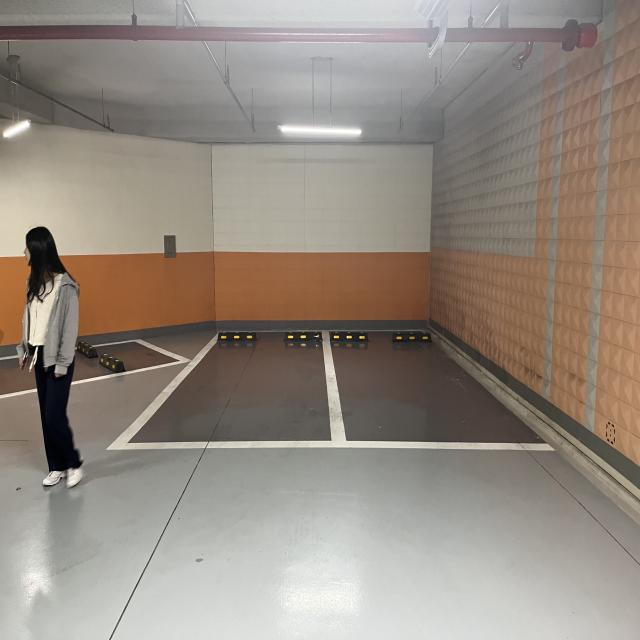empty: (106, 326, 344, 449), (326, 328, 560, 451)
